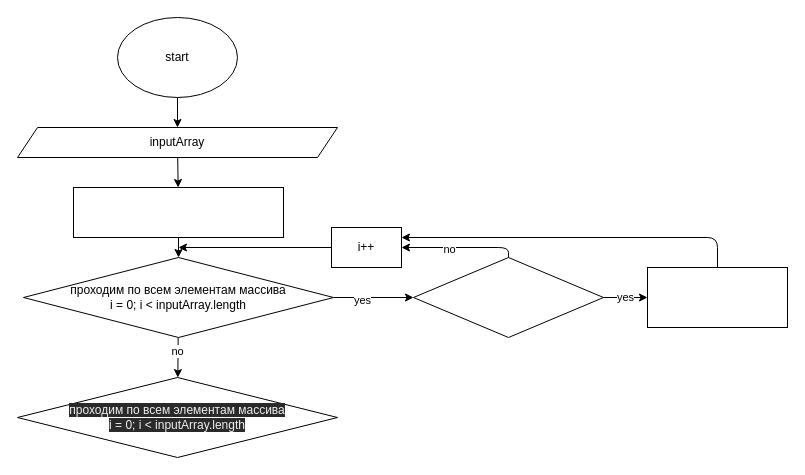
Image size: 805x475. Some labels were removed from this diagram. The shapes that lost their labels are listed below. From the top down, each one's box as (x1, y1, x2, y2) in pixels, then its label:
(72, 186, 284, 238): int createdArrayLength = 0;
(412, 256, 604, 338): элемент массива <= 3
(646, 266, 788, 328): createdArrayLength ++;
